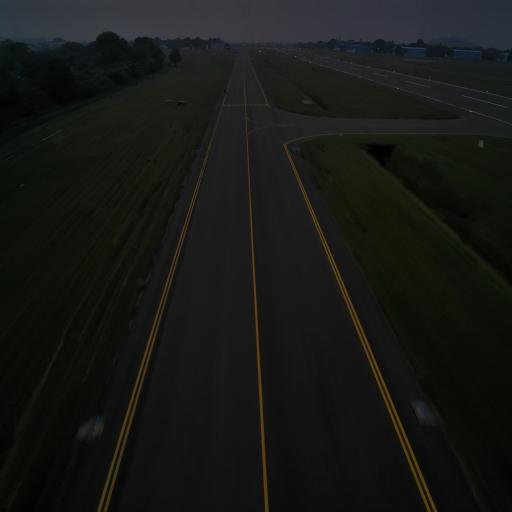on: (415, 396, 426, 418), (93, 417, 100, 432), (294, 145, 296, 150), (199, 146, 201, 151)
